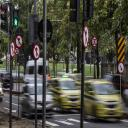NoSeguir: (83, 24, 89, 49), (15, 34, 23, 48), (33, 44, 40, 60), (11, 40, 15, 57)
